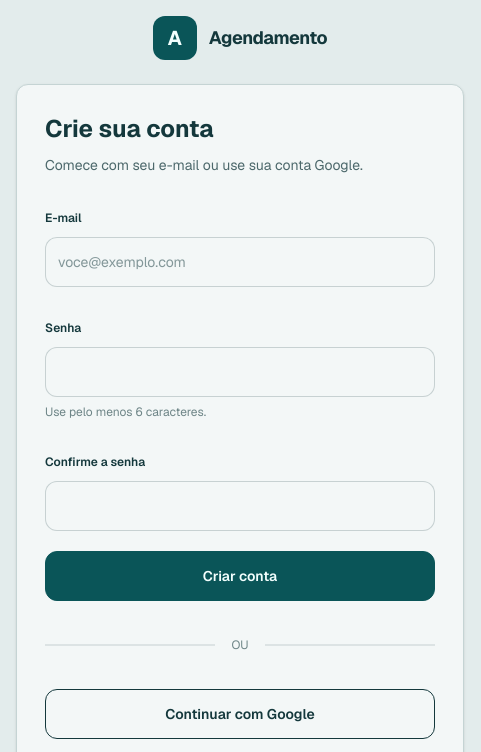
Test: RegisterScreen › rejects different password confirmations locally
Type "prestador@salao.com" into the field labelled "E-mail" at (240, 262), box top-left (45, 237), bottom-right (435, 287)
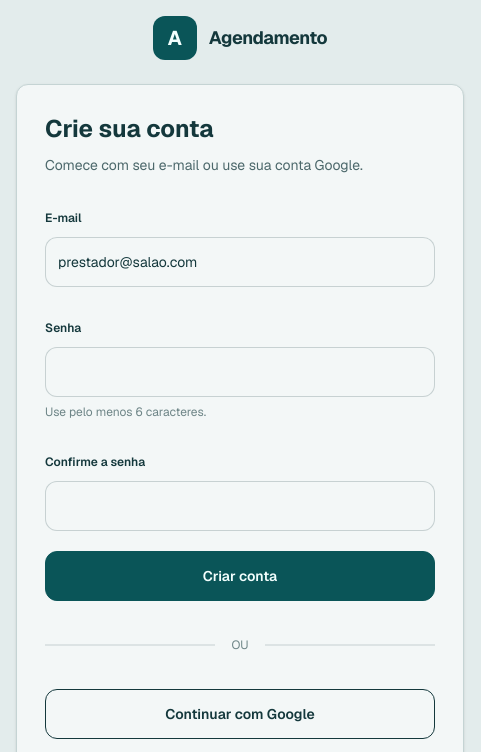
Type "segredo-a" into the password field labelled "Senha" at (240, 372), box top-left (45, 347), bottom-right (435, 397)
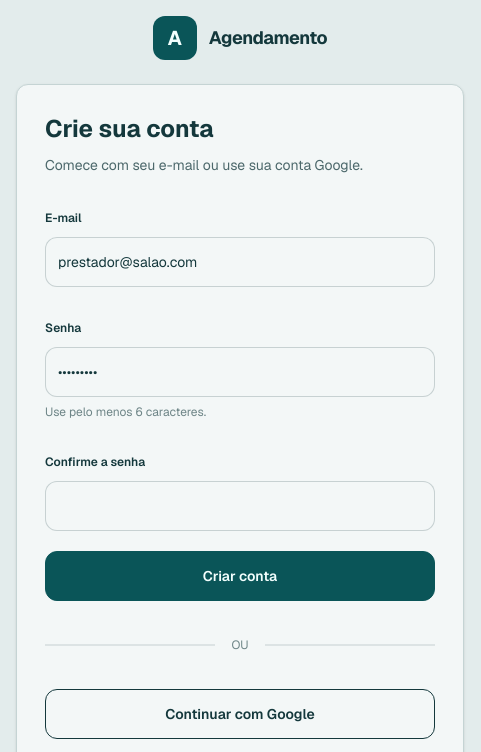
Type "segredo-b" into the password field labelled "Confirme a senha" at (240, 506), box top-left (45, 481), bottom-right (435, 531)
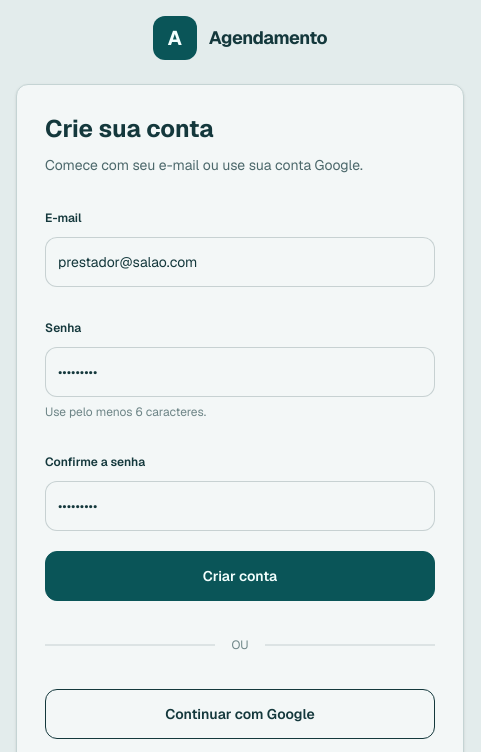
Click the button "Criar conta" at (240, 576), box top-left (45, 551), bottom-right (435, 601)
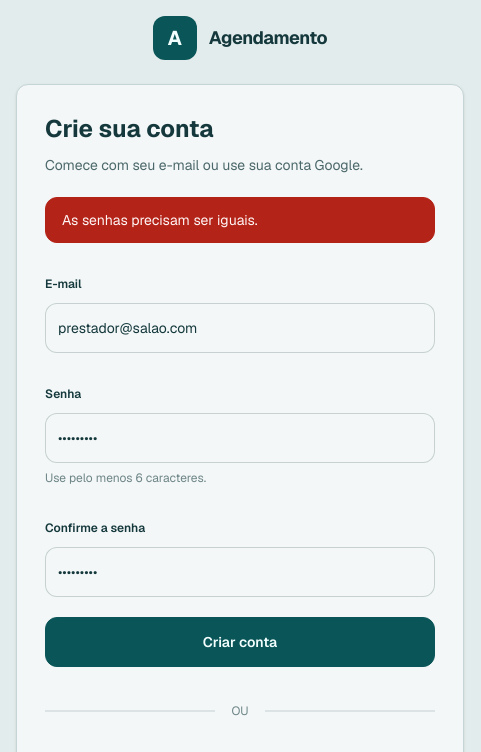
Now the message reads "As senhas precisam ser iguais.", box top-left (62, 211), bottom-right (258, 229)
